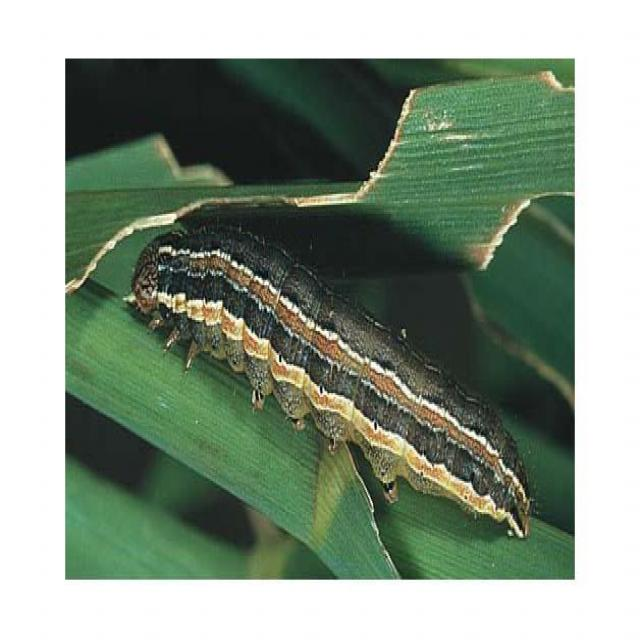armyworm: (118, 200, 538, 559)
